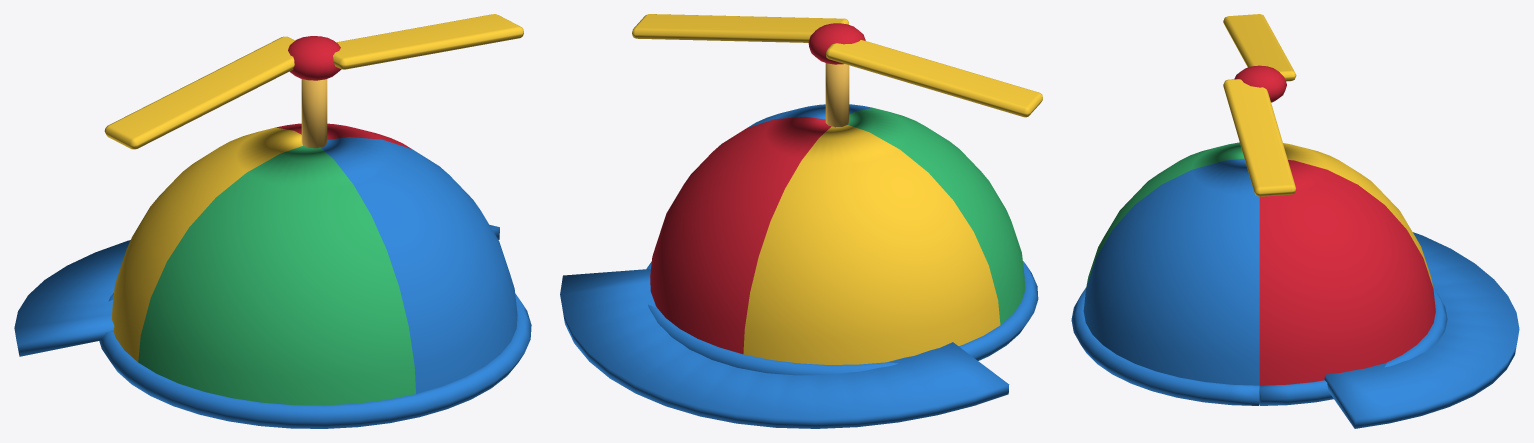
The model's file is propeller-hat.glb.
3 renders of one model, left to right at view 1: azimuth 30°, elevation 25°; view 2: azimuth 150°, elevation 25°; view 3: azimuth 270°, elevation 25°, orthographic. The views are drawn at different scales.
Visible parts, largest first — view 1: PropellerHat_Sculpture, Propeller_Sculpture; view 2: PropellerHat_Sculpture, Propeller_Sculpture; view 3: PropellerHat_Sculpture, Propeller_Sculpture.
Part boxes in pixels (x1,y1,x2,y2): PropellerHat_Sculpture: (14, 79, 531, 428); Propeller_Sculpture: (104, 14, 523, 149); PropellerHat_Sculpture: (560, 63, 1038, 428); Propeller_Sculpture: (632, 14, 1042, 117); PropellerHat_Sculpture: (1071, 142, 1519, 428); Propeller_Sculpture: (1223, 14, 1296, 196).
Size of the model in its own units: 0.3869 by 0.239 by 0.3593.
